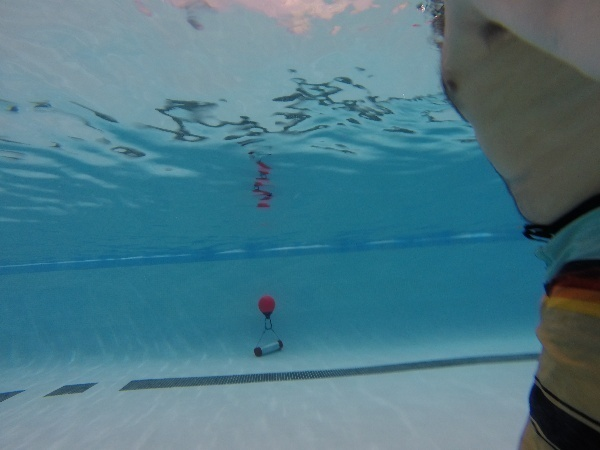buoy_red: (257, 292, 278, 321)
